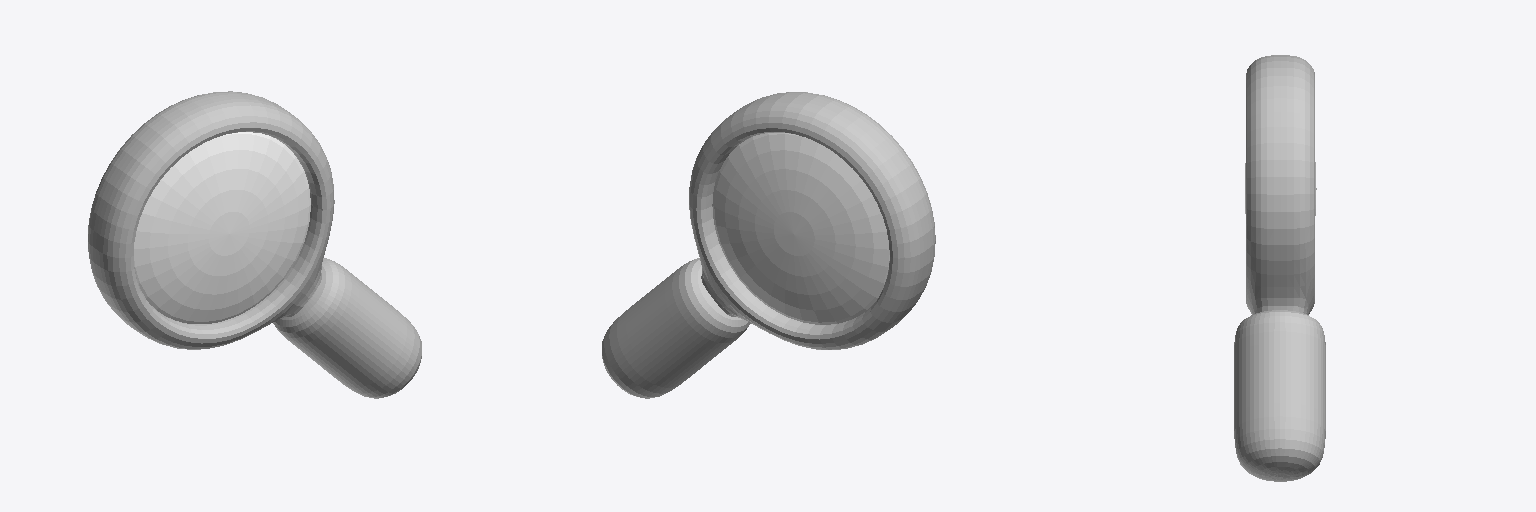
The model's file is magnifying_glass.obj.
3 renders of one model, left to right at view 1: azimuth 30°, elevation 25°; view 2: azimuth 150°, elevation 25°; view 3: azimuth 270°, elevation 25°, orthographic.
Visible parts, largest first — view 1: Object_2, Object_3; view 2: Object_2, Object_3; view 3: Object_2.
Part boxes in pixels (x1,y1,x2,y2): Object_2: (88, 91, 421, 398); Object_3: (134, 132, 310, 323); Object_2: (602, 92, 935, 398); Object_3: (712, 133, 889, 324); Object_2: (1234, 55, 1325, 481).
Bounding box in the file's own units: 4.95 × 4.94 × 1.23.